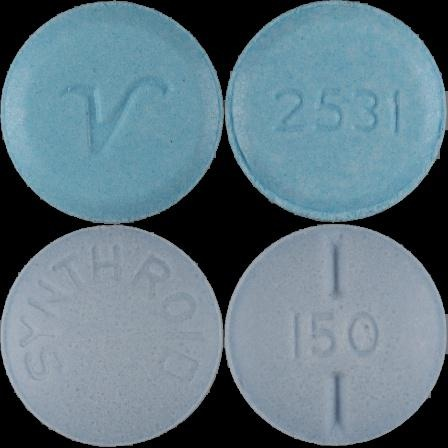66336-588: (0, 0, 224, 224)
